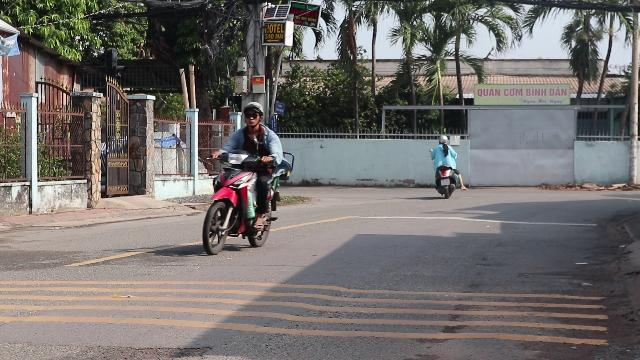helmet: (241, 100, 263, 127)
motorcyclist: (199, 100, 291, 254)
